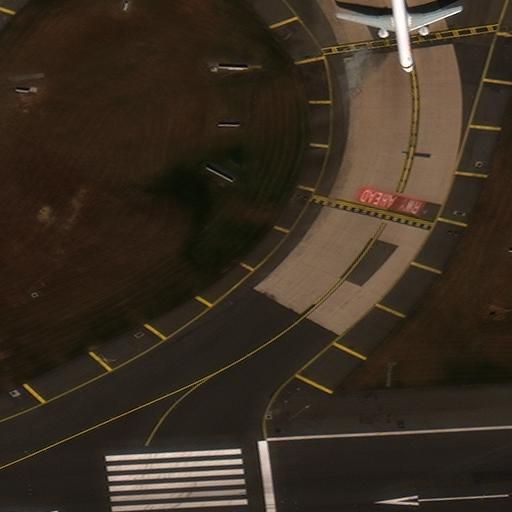Medium Civil Transport: (335, 0, 462, 73)
